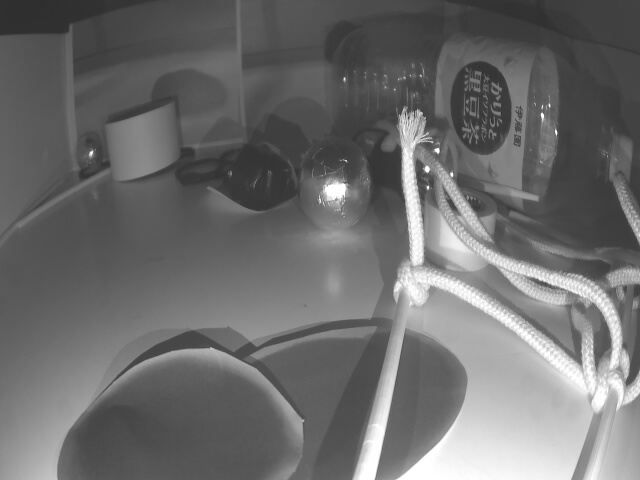Live: (303, 141, 377, 234), (75, 133, 103, 172)
